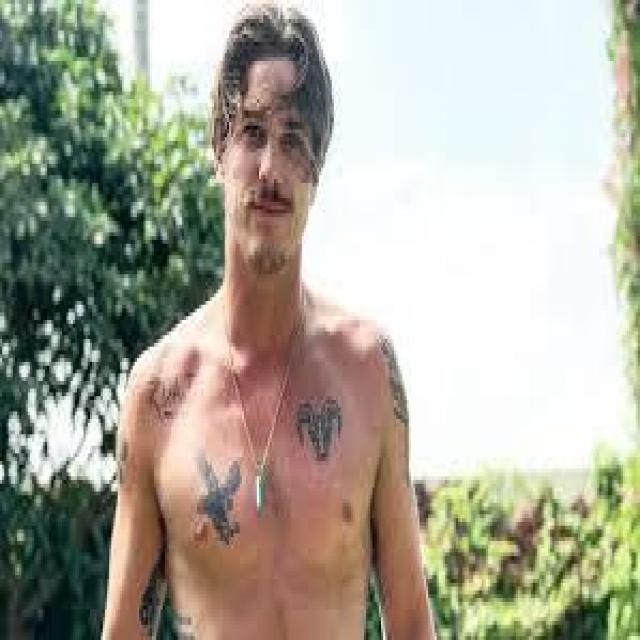person: (100, 0, 445, 632)
